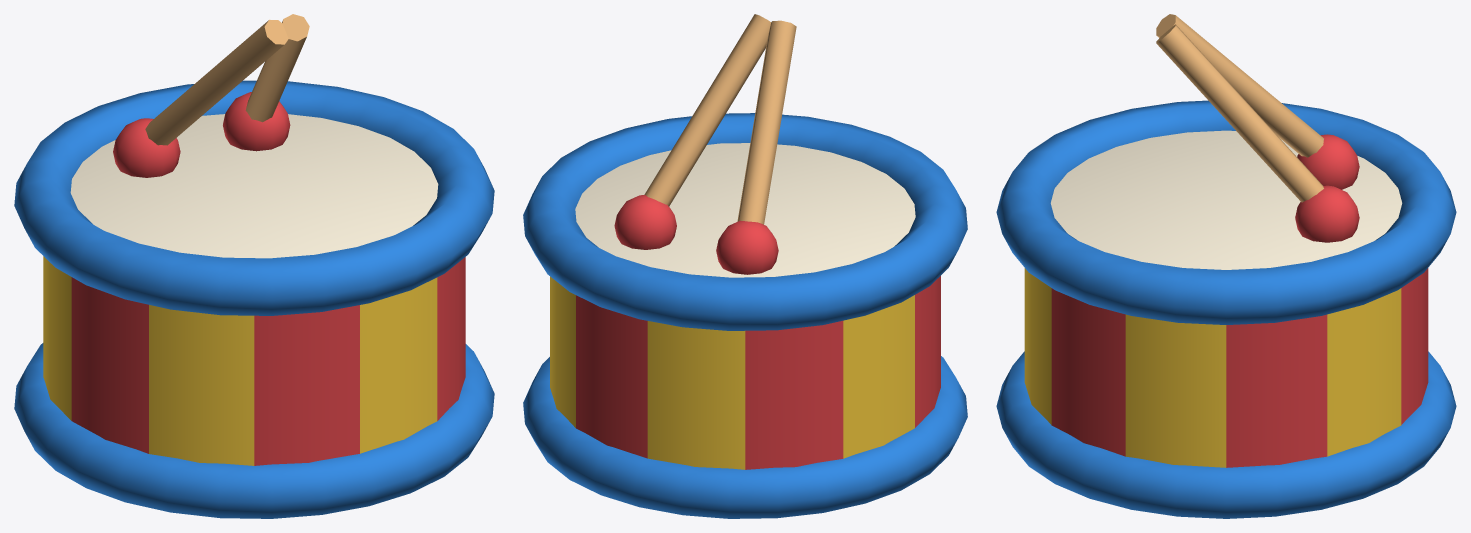
The model's file is brinquedo_tambor.glb.
The picture shows the model from 3 angles, left to right: view 1: azimuth 30°, elevation 25°; view 2: azimuth 150°, elevation 25°; view 3: azimuth 270°, elevation 25°; orthographic projection. The views are drawn at different scales.
Parts seen in each view (by area): view 1: brinquedo_tambor; view 2: brinquedo_tambor; view 3: brinquedo_tambor.
Boxes of the visible parts, x1=… form: brinquedo_tambor: x1=14, y1=14, x2=494, y2=518; brinquedo_tambor: x1=523, y1=14, x2=967, y2=518; brinquedo_tambor: x1=996, y1=14, x2=1456, y2=518.
Bounding box in the file's own units: 0.228 × 0.2246 × 0.228.
Materials: 1 (1 with a texture image).
